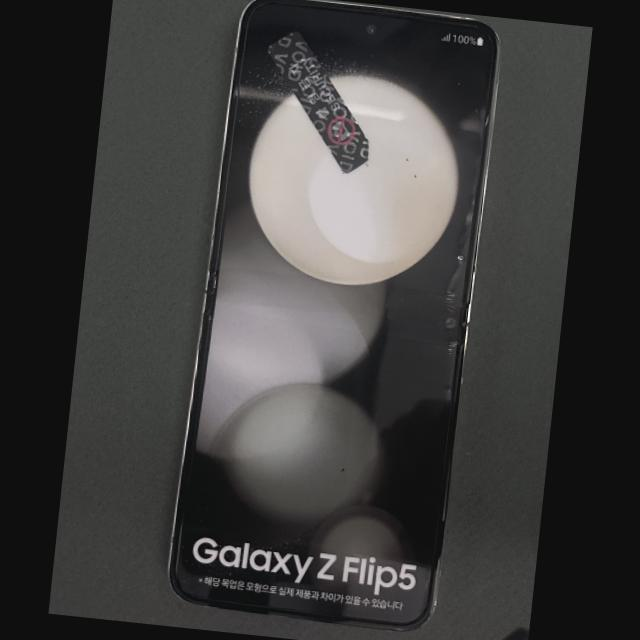lens: (366, 25, 377, 35)
phone: (166, 0, 502, 632)
sticker: (267, 30, 369, 173)
